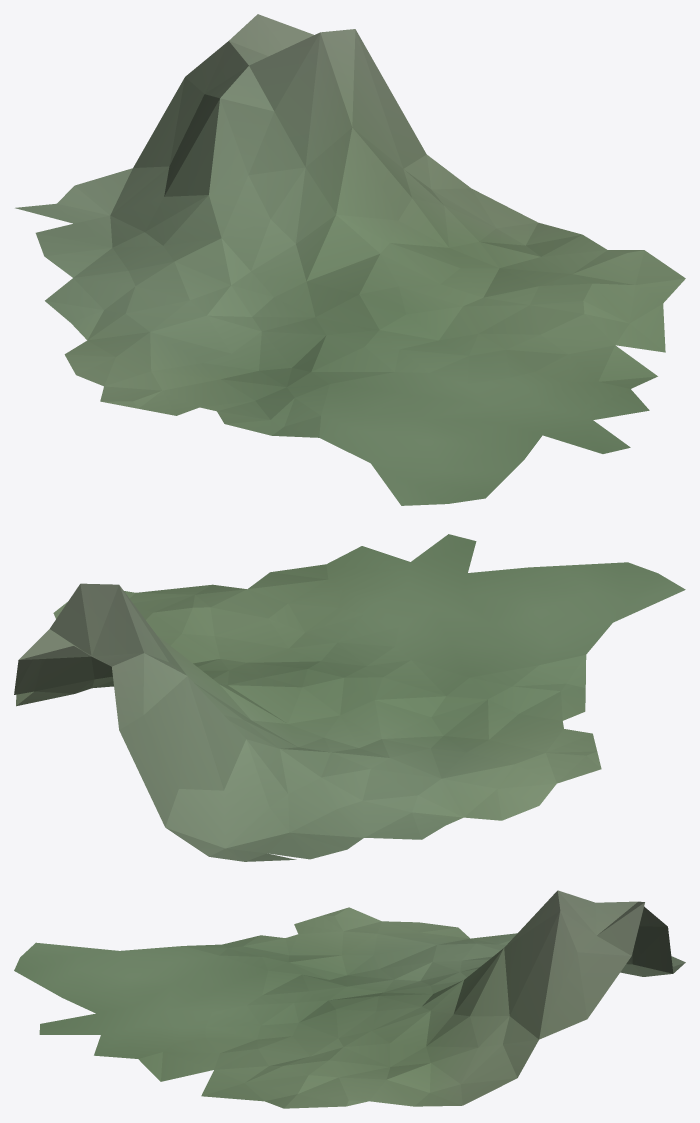
3 views of the same model, one above another, from view 1: azimuth 30°, elevation 25°; view 2: azimuth 150°, elevation 25°; view 3: azimuth 270°, elevation 25° (orthographic). The views are drawn at different scales.
Parts seen in each view (by area): view 1: 缅甸季风林; view 2: 缅甸季风林; view 3: 缅甸季风林.
Part boxes in pixels (x1,y1,x2,y2): 缅甸季风林: (15,14,685,505); 缅甸季风林: (14,534,685,861); 缅甸季风林: (14,890,685,1108).
Bounding box in the file's own units: 8.2 × 2.88 × 10.73.
